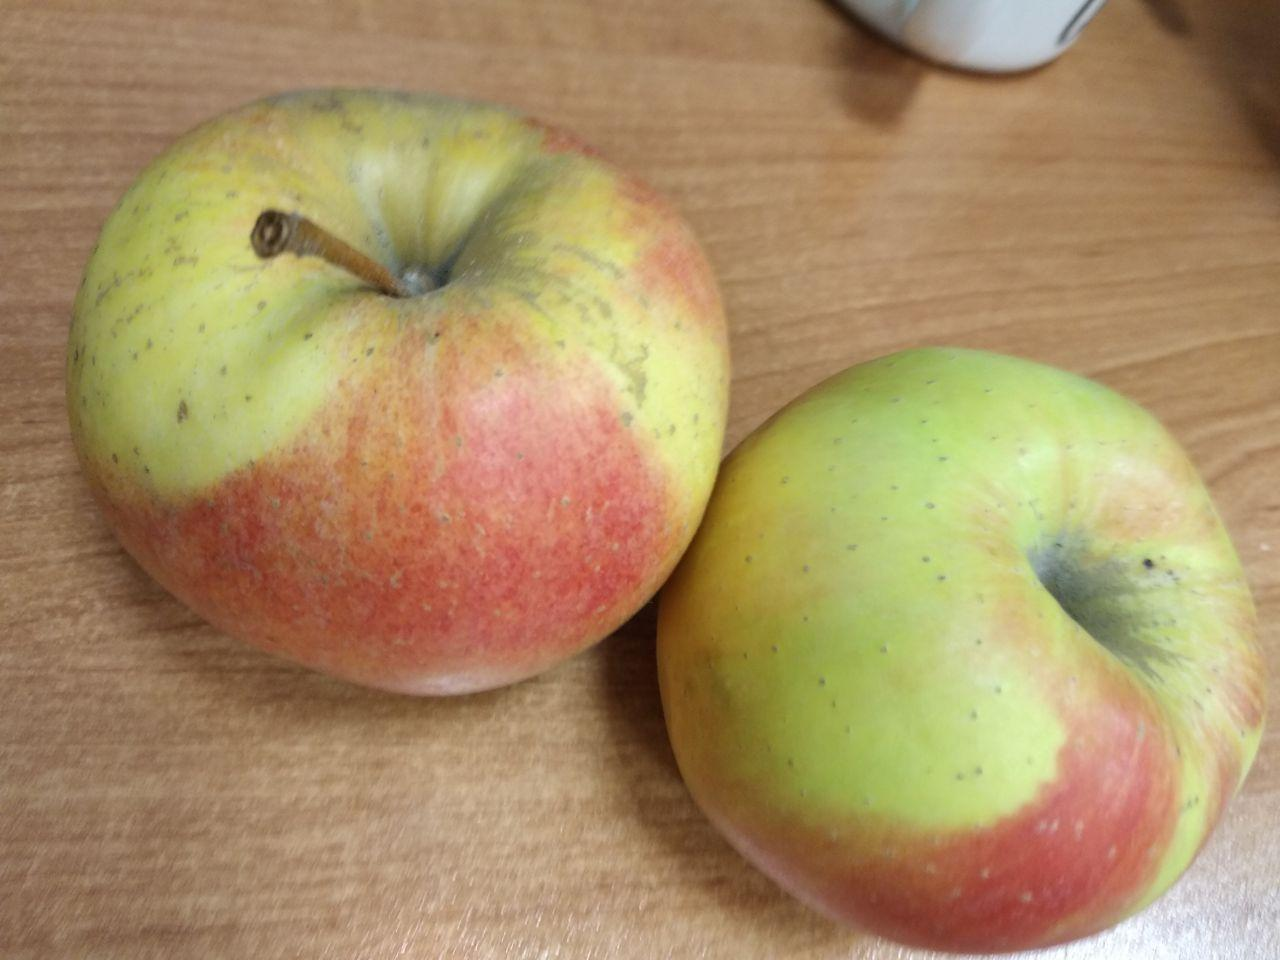Apple: (65, 93, 732, 706), (655, 352, 1266, 955)
